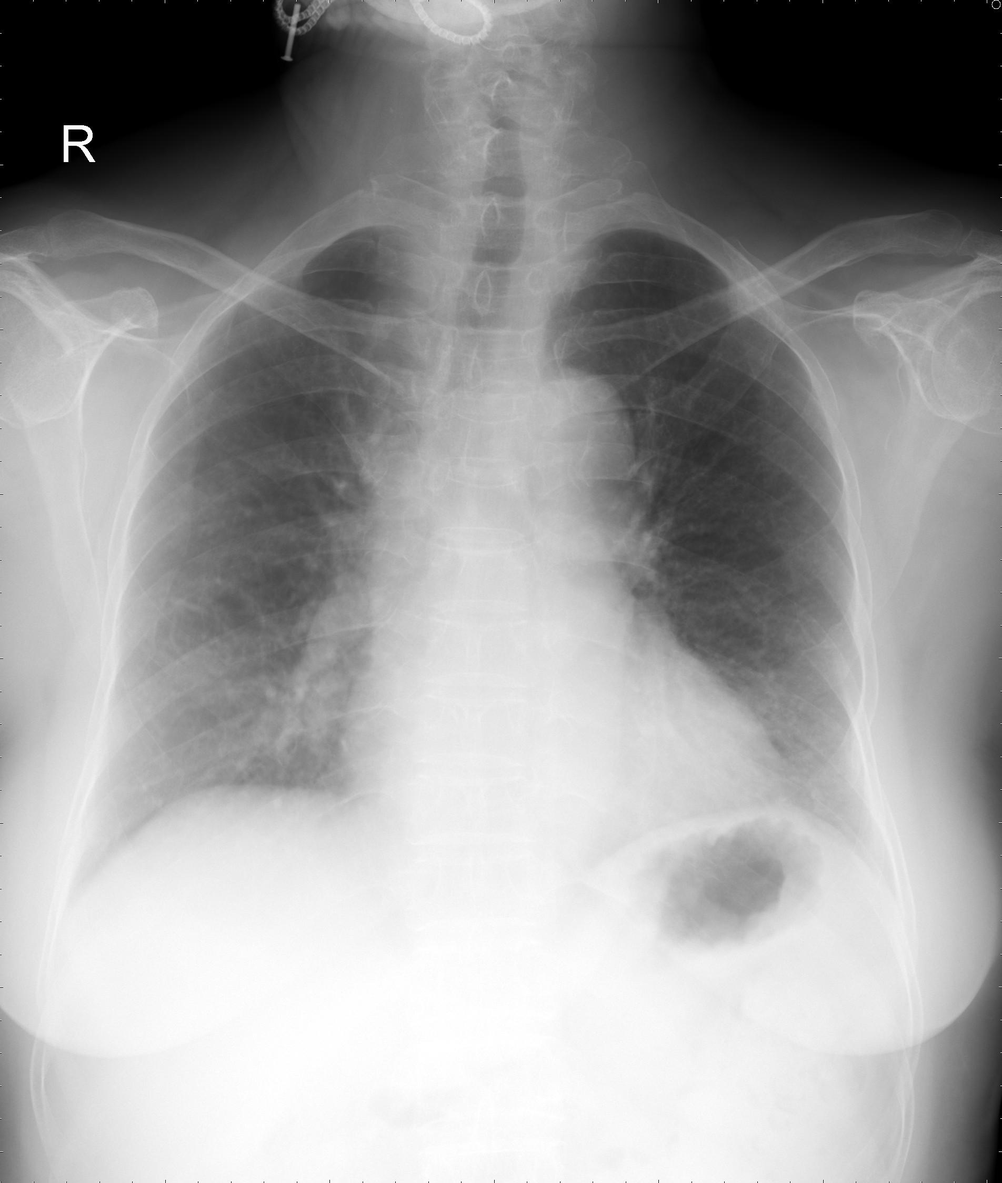Aortic enlargement: (502, 368, 635, 535)
